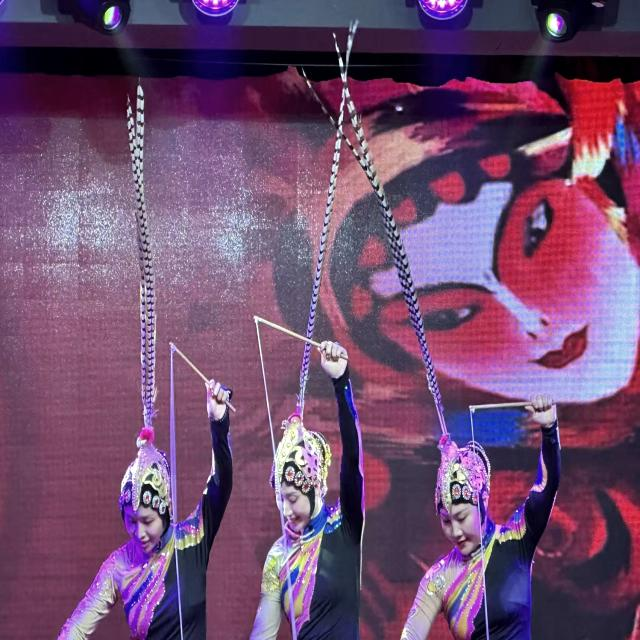Reeves-s Pheasant: (302, 21, 446, 433), (126, 82, 156, 429)
